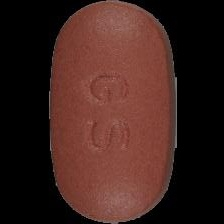0007-4888: (0, 0, 224, 224)
